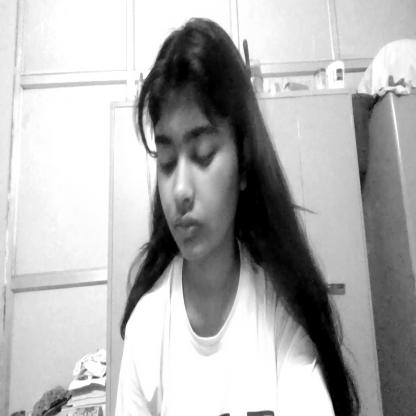Distracted: (136, 12, 256, 275)
